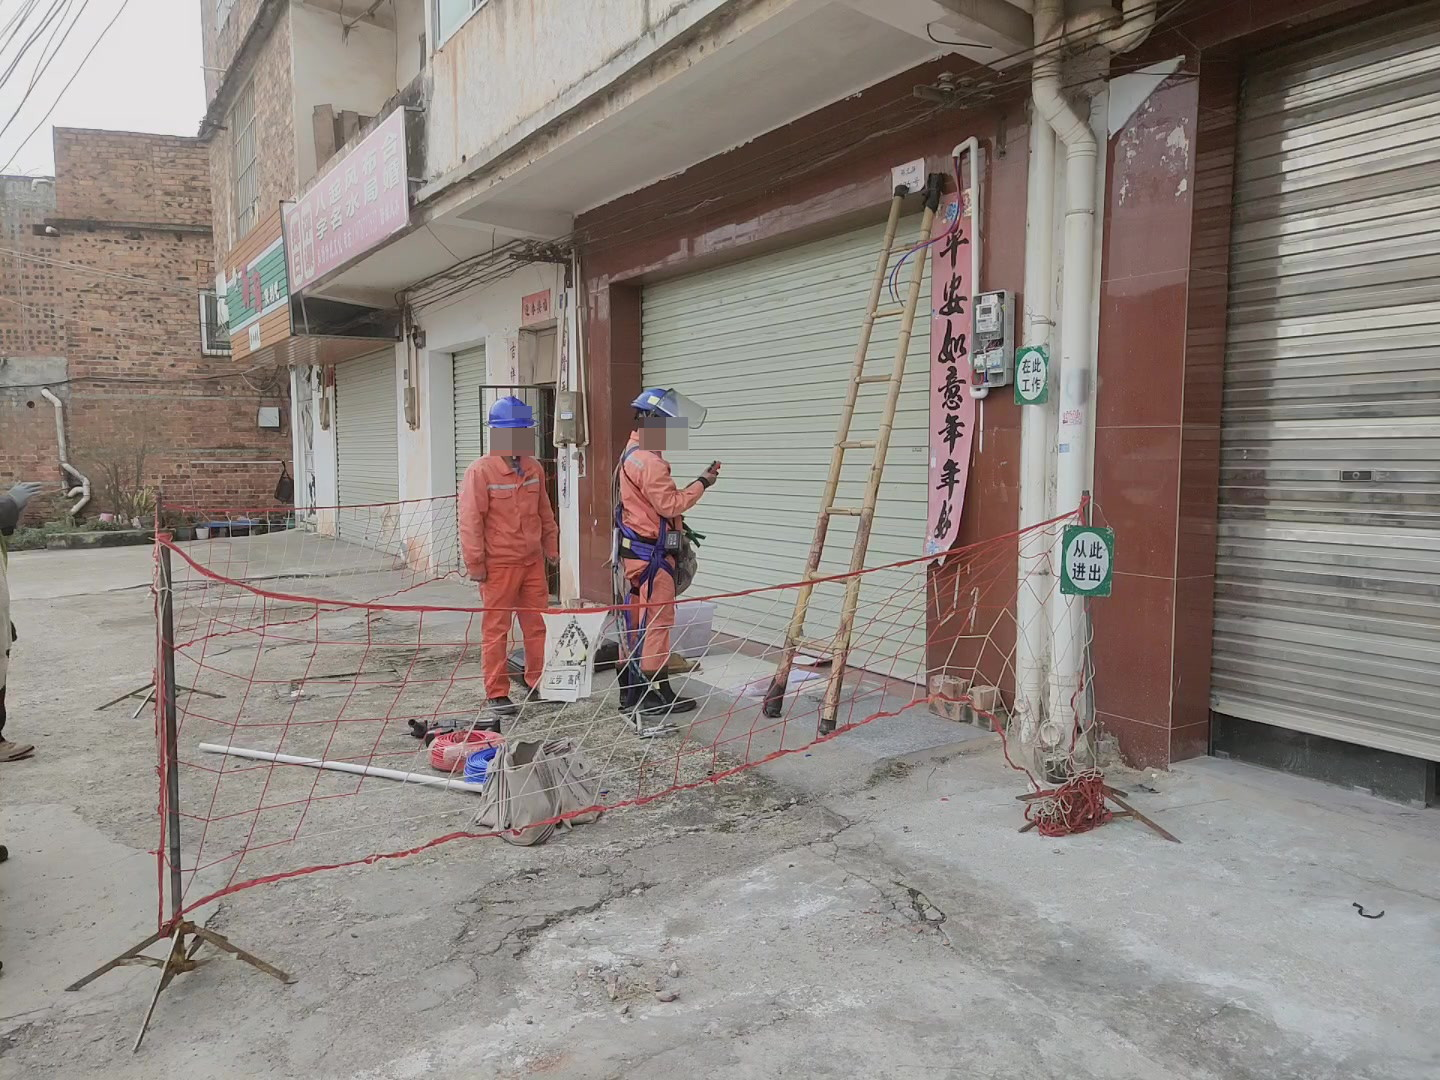halt: (487, 395, 536, 451), (629, 388, 684, 438)
hand: (701, 466, 725, 486), (466, 569, 486, 582)
inear: (637, 411, 667, 442)
intosign: (1062, 527, 1110, 591)
person: (597, 384, 712, 719), (455, 388, 564, 708)
safebelt: (606, 440, 685, 650)
shoe: (643, 666, 698, 714), (614, 666, 642, 704)
worksign: (1016, 352, 1050, 400)
ydownsuit: (615, 554, 685, 678), (476, 576, 546, 687)
yupsuit: (463, 458, 556, 580), (616, 448, 673, 546)
